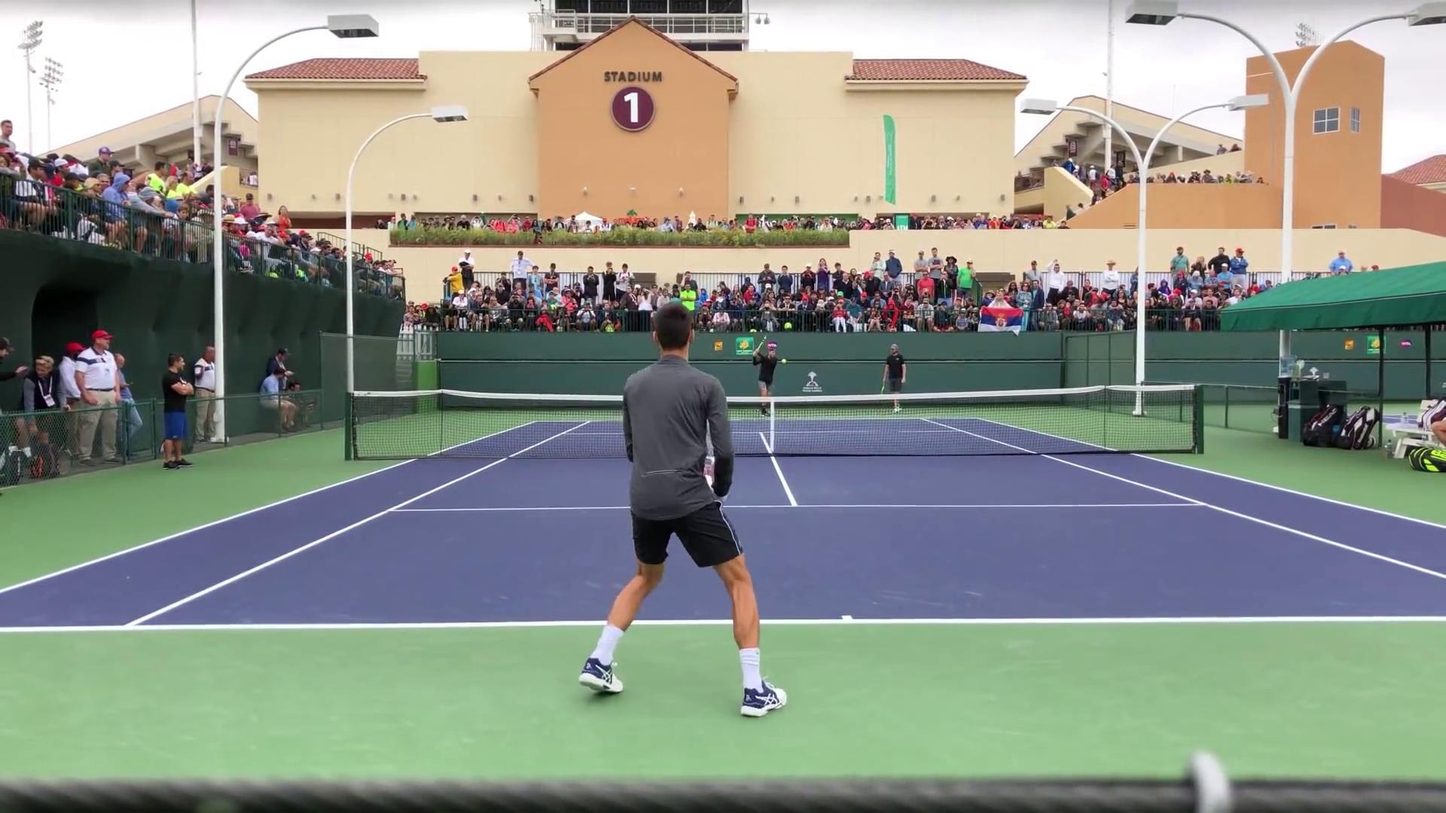ball: (781, 359, 787, 364)
